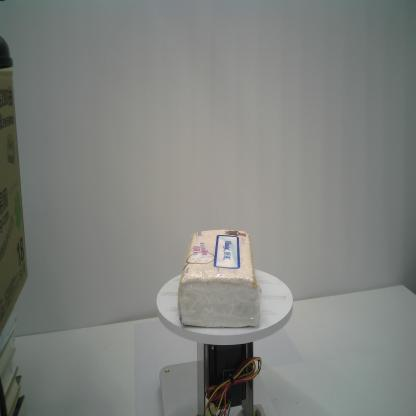Tissue: (176, 227, 263, 330)
